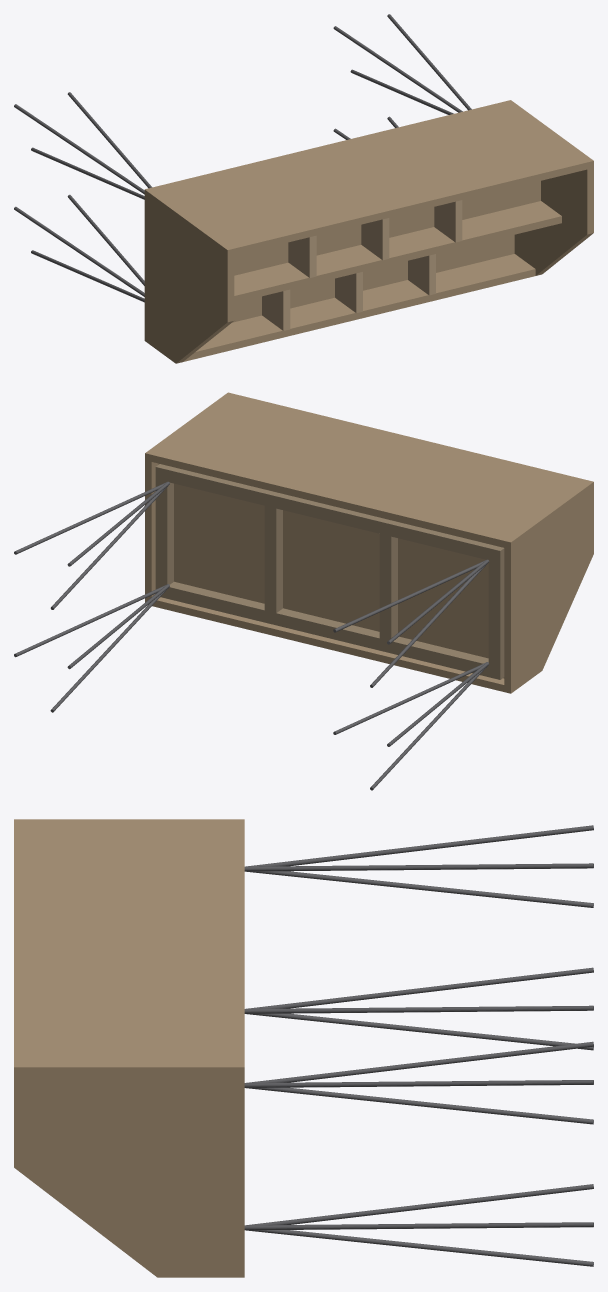
File: vinyl_record_storage.glb
3 views of the same model, one above another, from view 1: azimuth 30°, elevation 25°; view 2: azimuth 150°, elevation 25°; view 3: azimuth 270°, elevation 25° (orthographic). The views are drawn at different scales.
Visible parts, largest first — view 1: back, side_left, front, shelf_divider, side_right, back_shelf_bottom, bottom, leg_back_left, leg_front_left, leg_back_right, back_divider_3, back_divider_2 (+4 smaller); view 2: back, bottom, side_left, frame_front, frame_back, front, frame_left, frame_right, side_right, frame_cross_2, frame_cross_1, leg_front_left (+3 smaller); view 3: back, side_right, leg_front_right, leg_back_right, leg_back_left, leg_front_left, side_left.
Part boxes in pixels (x1,y1,x2,y2): back: (151, 101, 587, 255); side_left: (144, 188, 234, 363); front: (183, 254, 535, 361); shelf_divider: (234, 201, 561, 302); side_right: (504, 100, 593, 275); back_shelf_bottom: (234, 181, 540, 275); bottom: (232, 235, 514, 322); leg_back_left: (14, 92, 152, 199); leg_front_left: (14, 194, 144, 302); leg_back_right: (333, 14, 471, 114); back_divider_3: (434, 200, 462, 242); back_divider_2: (361, 218, 389, 260); back: (151, 394, 586, 547); bottom: (158, 463, 504, 678); side_left: (504, 480, 593, 693); frame_front: (167, 581, 488, 676); frame_back: (167, 466, 492, 559); front: (152, 597, 504, 691); frame_left: (488, 545, 504, 679); frame_right: (155, 464, 173, 598); side_right: (145, 392, 234, 602); frame_cross_2: (264, 506, 282, 613); frame_cross_1: (379, 534, 397, 640); leg_front_left: (333, 662, 488, 790); back: (14, 824, 244, 1062); side_right: (14, 1063, 244, 1277); leg_front_right: (244, 1184, 593, 1266); leg_back_right: (244, 1041, 593, 1124); leg_back_left: (244, 825, 593, 907); leg_front_left: (244, 967, 593, 1050); side_left: (14, 819, 244, 823).
Bounding box in the file's own units: 48.41 × 19.6 × 46.53.
